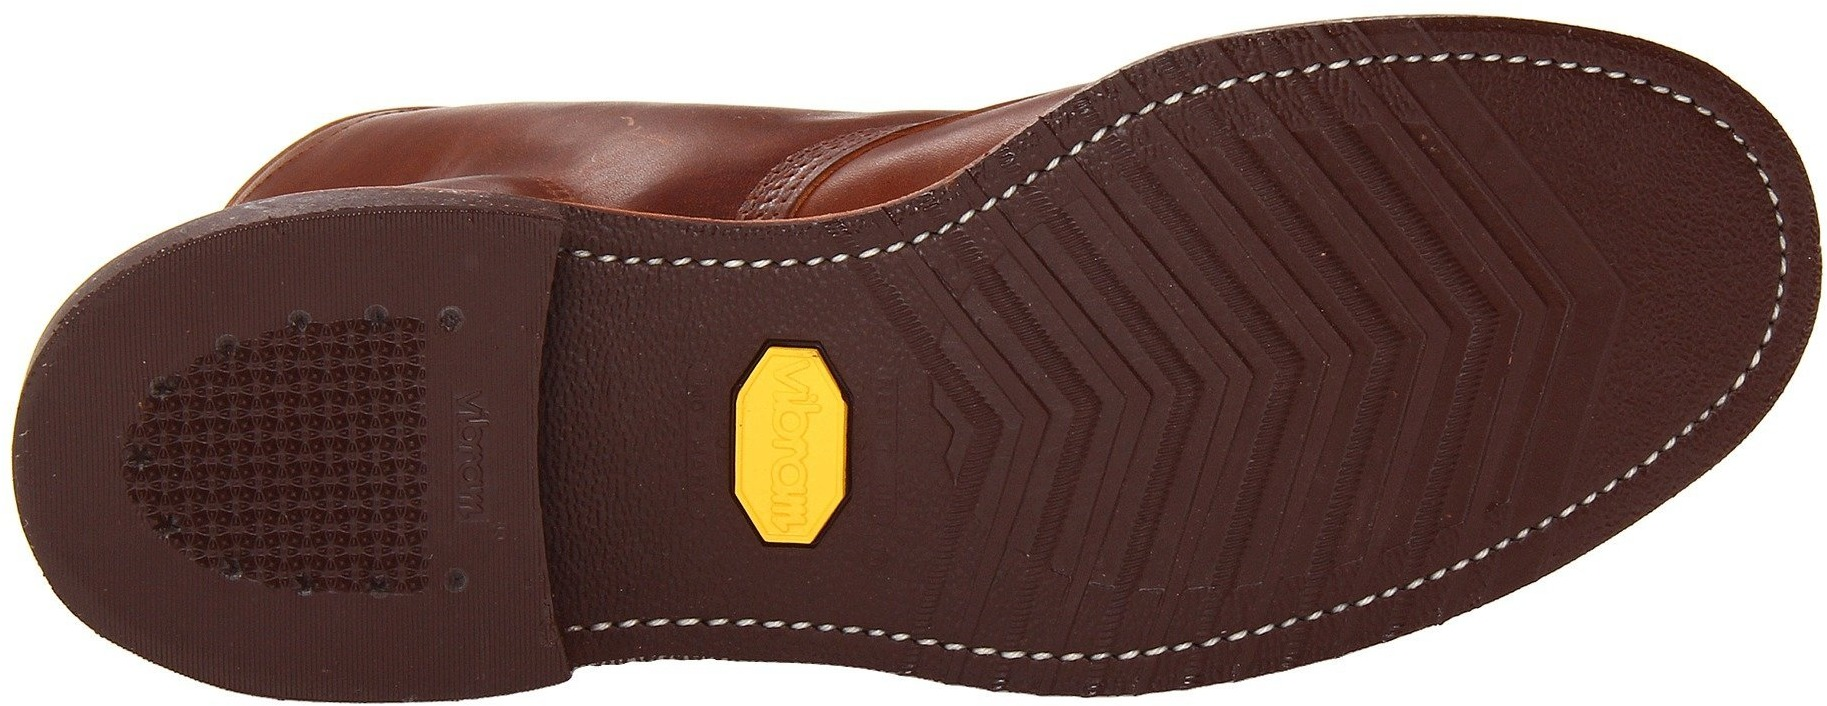chevron: (1247, 206, 1543, 457), (962, 276, 1240, 537)
exclude: (542, 155, 976, 684)
other: (1593, 123, 1730, 256)
text: (752, 440, 821, 506), (452, 408, 509, 473), (757, 366, 818, 422)
